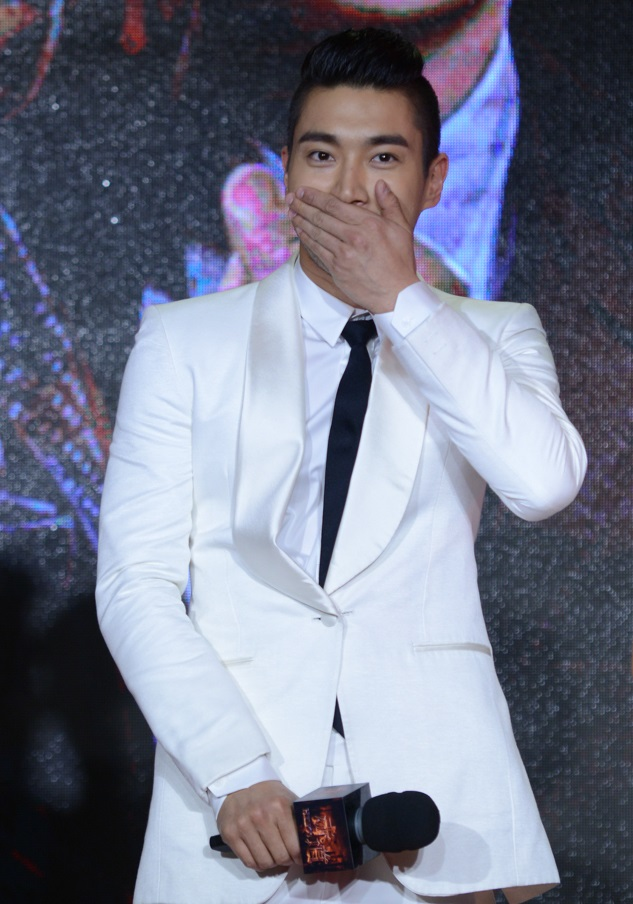face: (295, 92, 420, 279)
